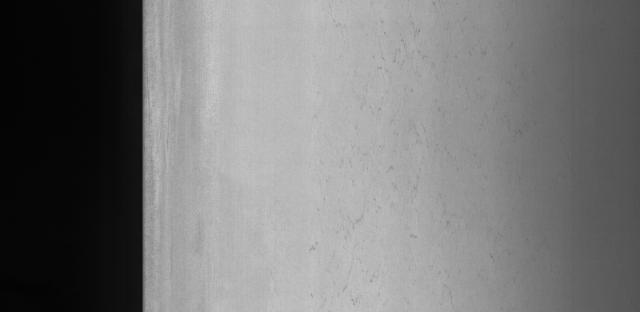silk_spot: (325, 10, 473, 246)
